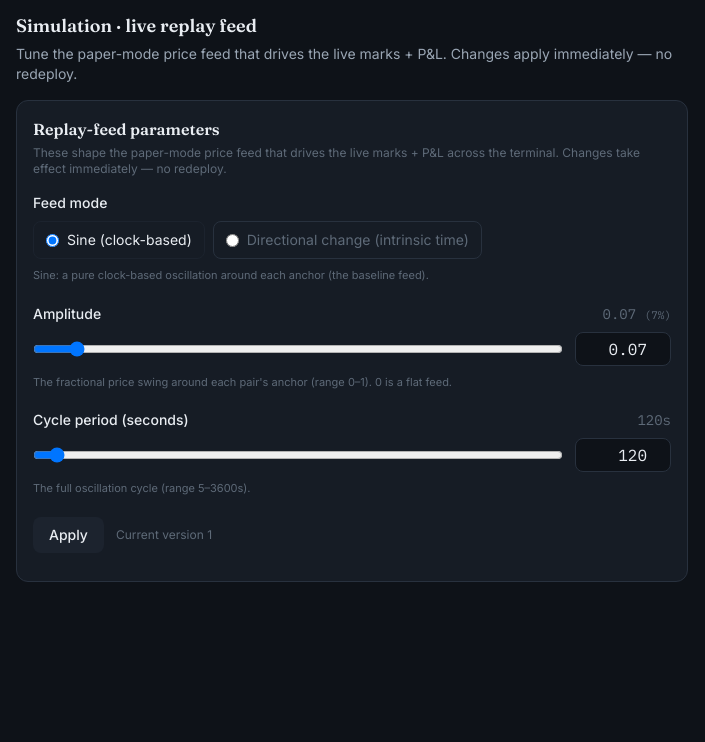
Scenario: SimulationSurface — read + tune the paper replay-feed parameters › switching to DC + editing δ + Apply PUTs mode and dcThreshold
The image size is (705, 742).
Click the radio button labelled "Directional change (intrinsic time)": [232, 240] box 226,234 -> 239,246
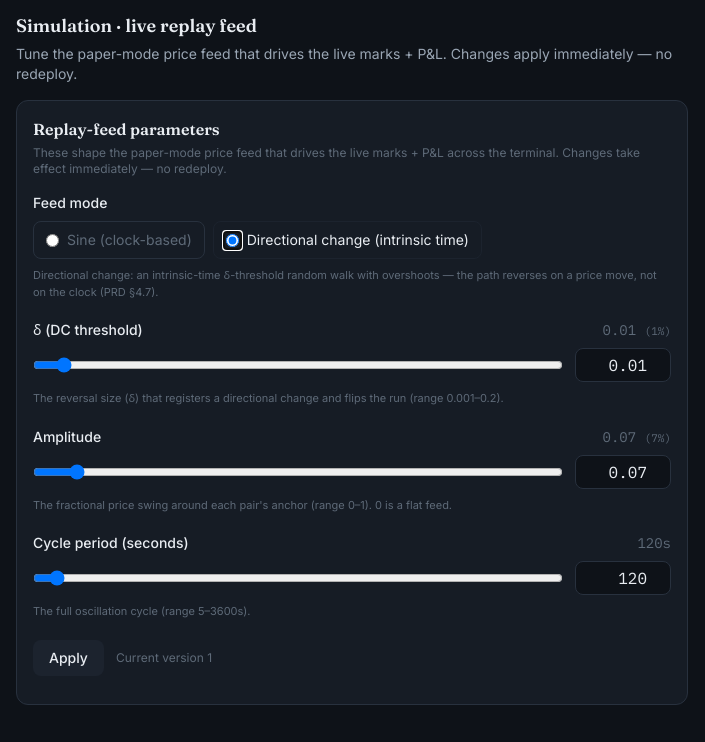
Replace the text in the number field named "DC threshold value" with "0.03": [623, 365] box 575,348 -> 671,382
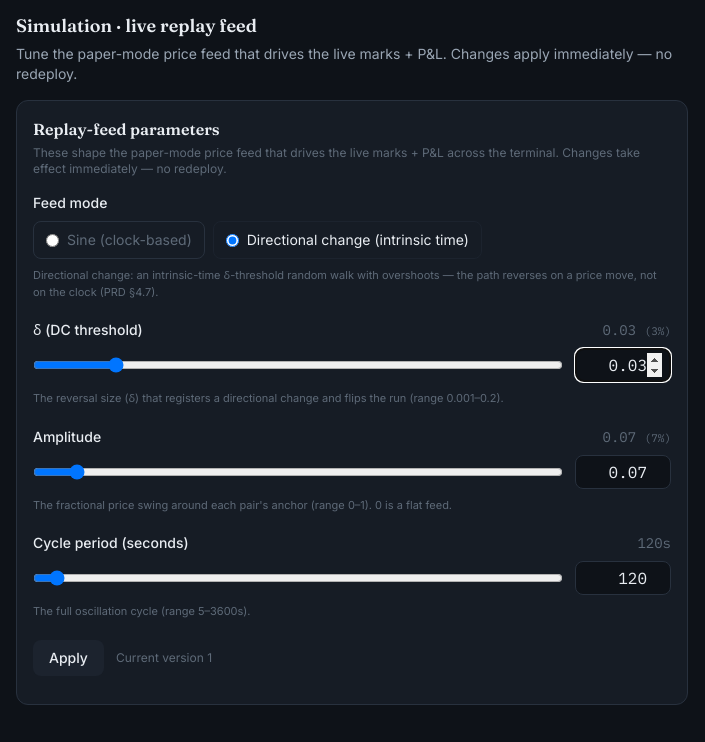
Click the button "Apply": [68, 658] box 33,640 -> 104,676
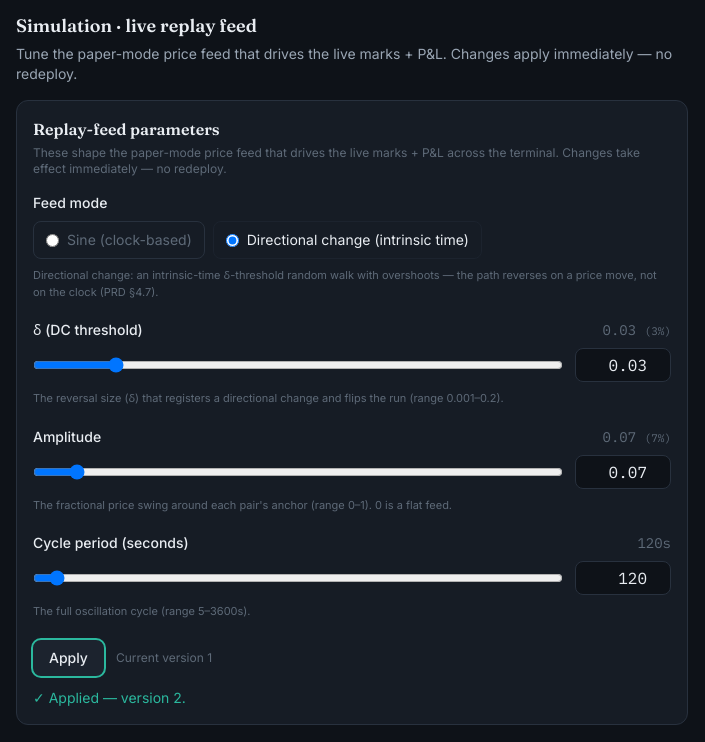
Expected: the text "✓ Applied — version 2." is shown, 33,688 -> 186,706
